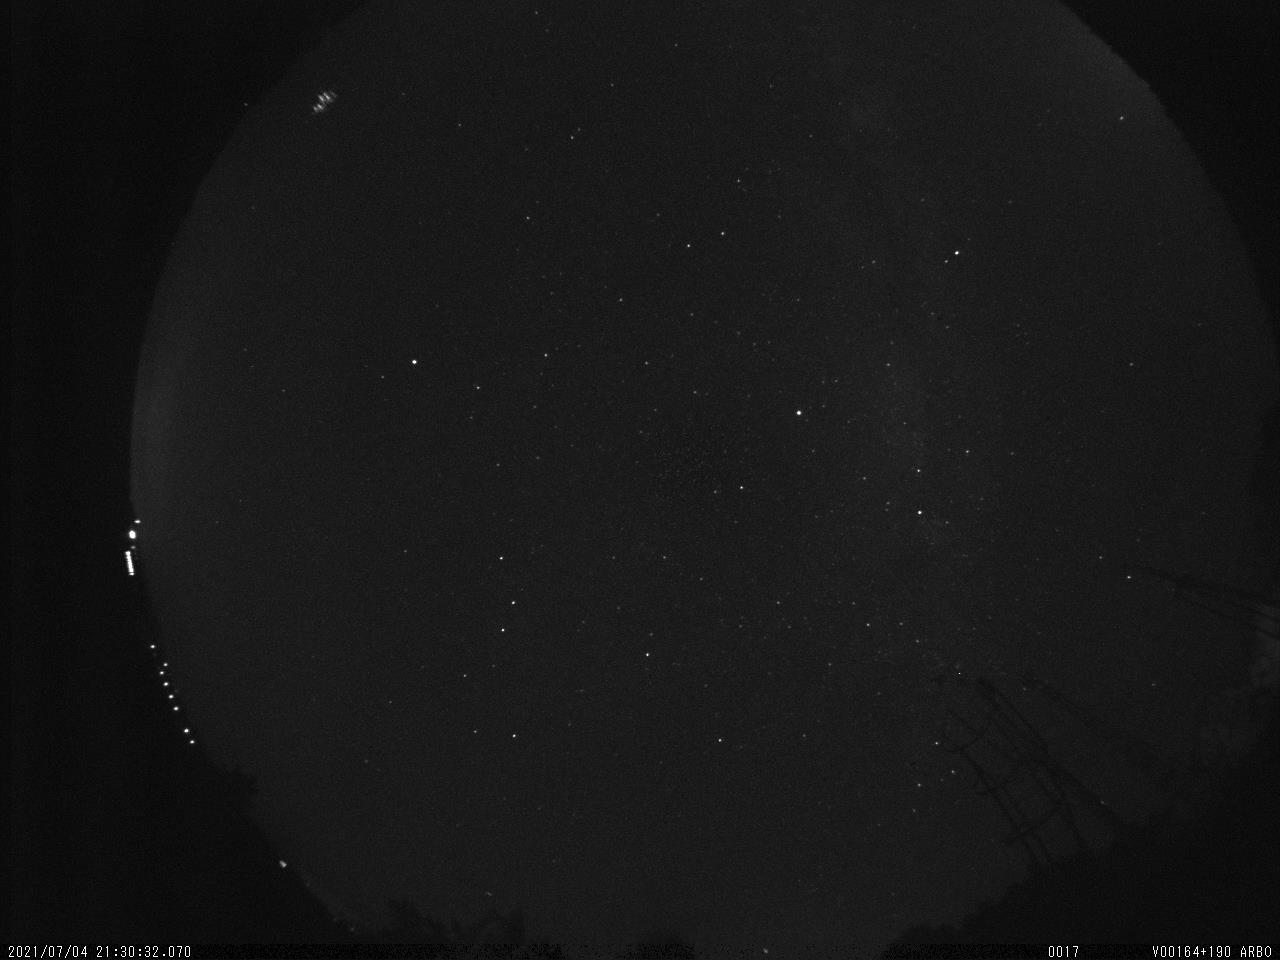TLE: (303, 80, 345, 123)
